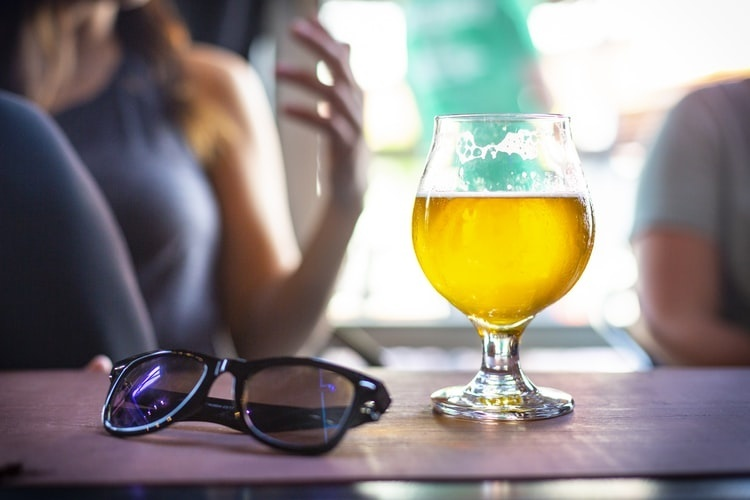whiskey: (417, 111, 592, 416)
